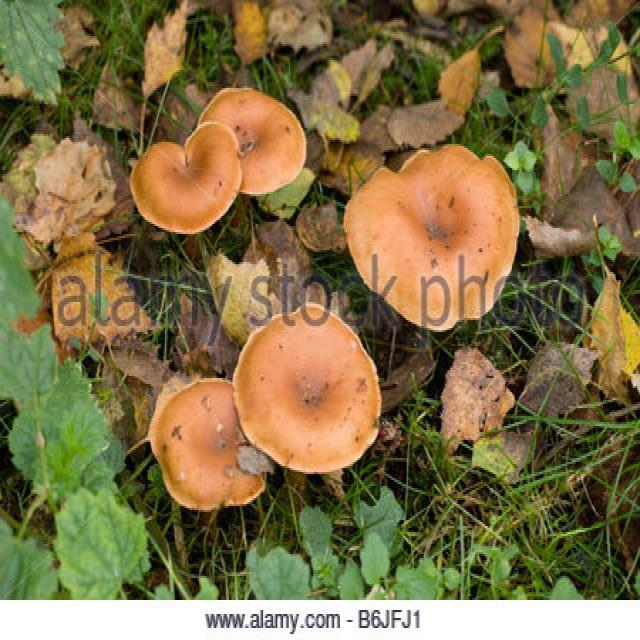Clitocybe maxima: (347, 141, 522, 330), (130, 87, 304, 230), (237, 306, 382, 470), (151, 376, 265, 506)
